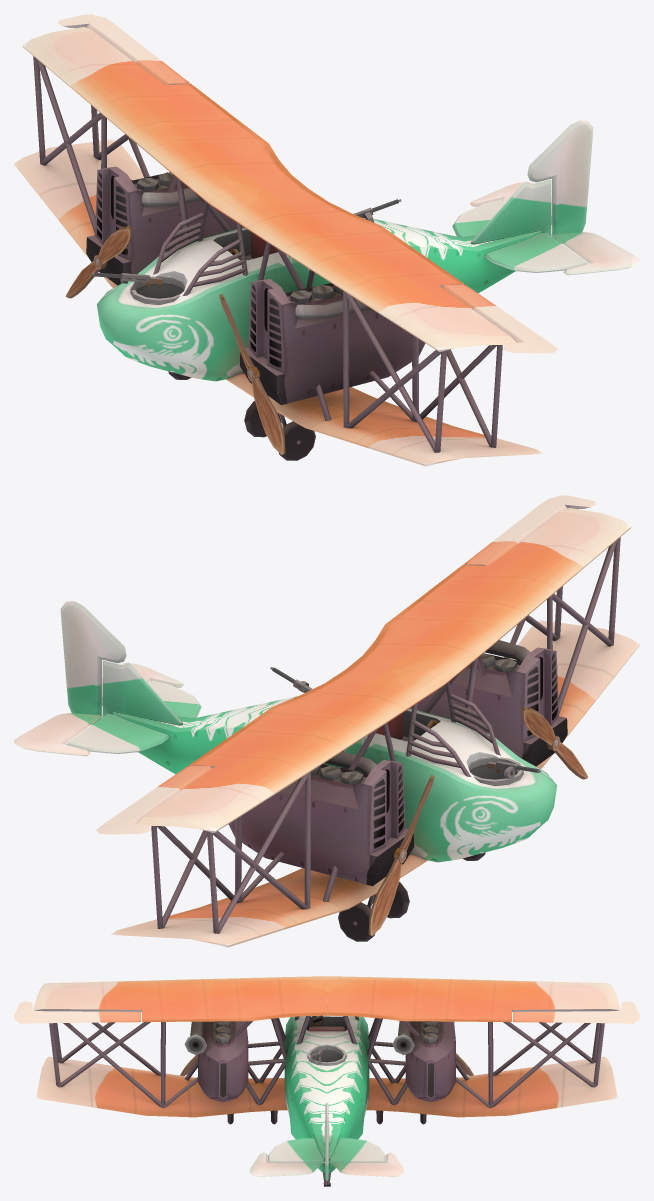
The picture shows the model from 3 angles, top to bottom: view 1: azimuth 30°, elevation 25°; view 2: azimuth 150°, elevation 25°; view 3: azimuth 270°, elevation 25°; orthographic projection. The views are drawn at different scales.
Visible parts, largest first — view 1: AEG_body; view 2: AEG_body; view 3: AEG_body.
Part boxes in pixels (bbox=[...]): AEG_body: bbox=[14, 14, 639, 466]; AEG_body: bbox=[14, 495, 639, 947]; AEG_body: bbox=[14, 976, 639, 1186].
Size of the model in its own units: 1014 by 423 by 1654.
1 material, 1 textured.
